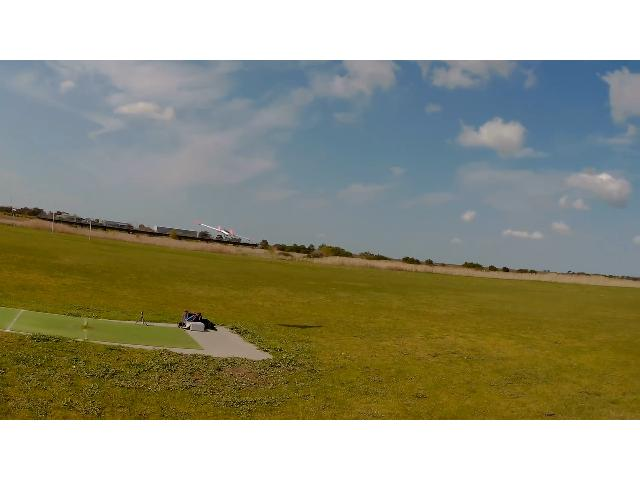Anti-Drone: (192, 220, 254, 241)
